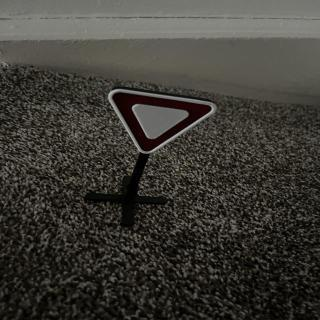sign_yield: (109, 90, 219, 160)
